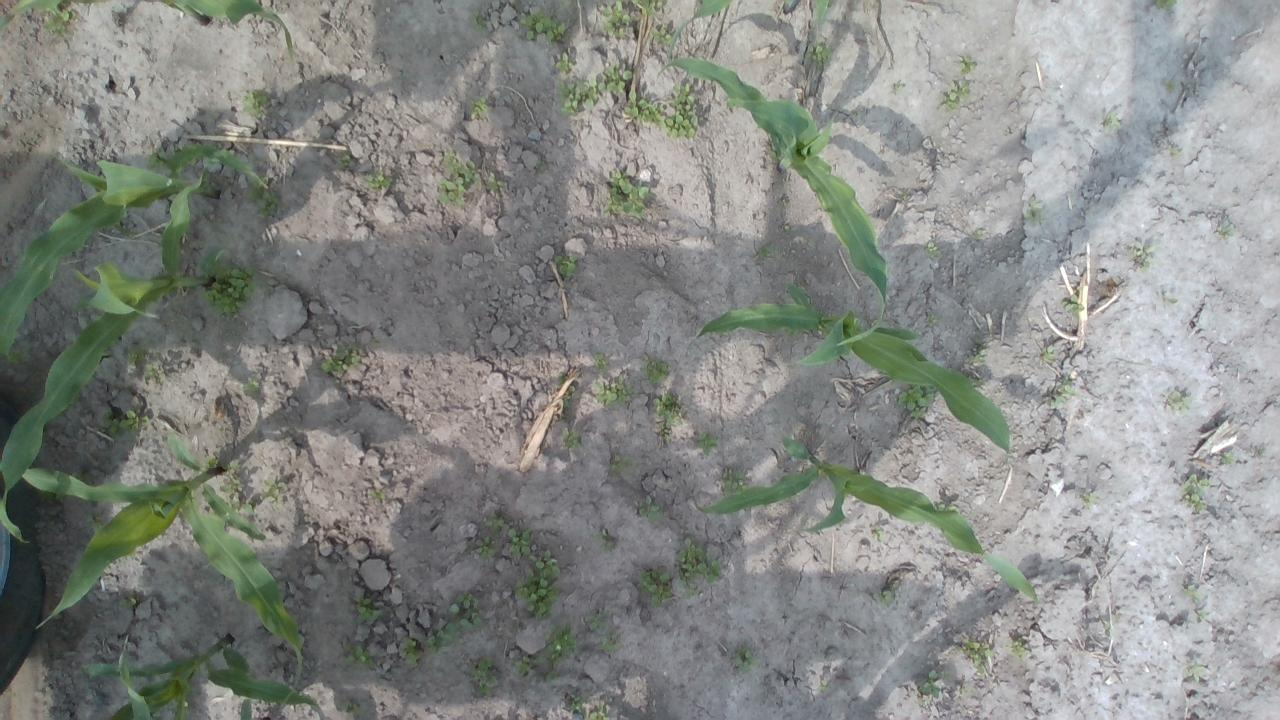Maize: (16, 434, 306, 708), (0, 175, 202, 548), (662, 55, 892, 346), (699, 435, 1042, 611), (0, 142, 270, 352), (693, 278, 1013, 452), (77, 630, 320, 720), (0, 0, 297, 59), (664, 0, 832, 60)
Weeds: (198, 258, 264, 321), (514, 550, 560, 620), (676, 536, 720, 599), (437, 152, 479, 206), (602, 172, 650, 219), (664, 84, 698, 138), (622, 88, 667, 128), (898, 380, 938, 422), (558, 77, 598, 116), (520, 9, 566, 42), (638, 564, 672, 608), (100, 407, 148, 438), (245, 178, 282, 218), (590, 373, 632, 408), (652, 392, 682, 440), (320, 342, 361, 376), (448, 594, 484, 632), (544, 624, 577, 664), (1180, 472, 1210, 514), (469, 655, 498, 697), (598, 0, 632, 35), (962, 638, 994, 674), (424, 622, 458, 654), (598, 64, 632, 94), (1046, 378, 1076, 411), (341, 644, 376, 672), (42, 6, 75, 34), (718, 468, 748, 498), (354, 595, 384, 625), (241, 88, 269, 120), (944, 80, 972, 112), (1131, 241, 1158, 274), (806, 40, 832, 72), (919, 669, 945, 700), (636, 496, 664, 523), (552, 254, 580, 280), (220, 463, 242, 496), (514, 655, 544, 679), (1166, 390, 1192, 416), (965, 338, 989, 366), (508, 528, 533, 554), (645, 358, 671, 383), (730, 646, 754, 672), (1022, 199, 1046, 225), (697, 430, 719, 457), (262, 480, 286, 504), (598, 630, 621, 655), (584, 606, 608, 629), (632, 0, 664, 17), (6, 345, 34, 364), (649, 22, 671, 46), (144, 146, 167, 168), (1062, 294, 1083, 318), (35, 490, 65, 506), (126, 344, 146, 367), (597, 528, 615, 553), (172, 158, 198, 175), (476, 537, 496, 559), (403, 636, 417, 666), (84, 512, 105, 532), (366, 172, 392, 188), (608, 455, 632, 472), (112, 221, 136, 238), (770, 135, 786, 160), (876, 588, 895, 609), (1185, 664, 1207, 682), (486, 176, 508, 194), (1184, 584, 1202, 605), (229, 501, 257, 514), (1010, 638, 1028, 658), (758, 240, 778, 258), (470, 96, 488, 116), (554, 52, 572, 72), (1038, 345, 1056, 365), (588, 704, 610, 720), (560, 431, 580, 448), (484, 512, 505, 528), (562, 386, 576, 408), (1103, 112, 1121, 129), (959, 55, 975, 74), (592, 352, 608, 370), (468, 13, 484, 31), (927, 242, 945, 258), (116, 596, 136, 610), (869, 527, 886, 543), (244, 377, 258, 395), (967, 374, 983, 389), (569, 694, 582, 712), (202, 180, 218, 194), (143, 364, 160, 377), (544, 670, 562, 682), (1154, 0, 1178, 9), (934, 503, 958, 512), (1220, 451, 1235, 465), (202, 455, 218, 468), (968, 228, 984, 241), (1216, 226, 1232, 238), (367, 489, 384, 499), (341, 156, 354, 168), (819, 680, 830, 694), (1082, 494, 1096, 505), (926, 316, 938, 328), (534, 160, 545, 172), (1164, 79, 1174, 92), (782, 224, 792, 235), (1198, 610, 1208, 620), (556, 373, 566, 382), (344, 702, 353, 712), (1102, 620, 1110, 630), (1166, 297, 1176, 304), (30, 24, 37, 32)
